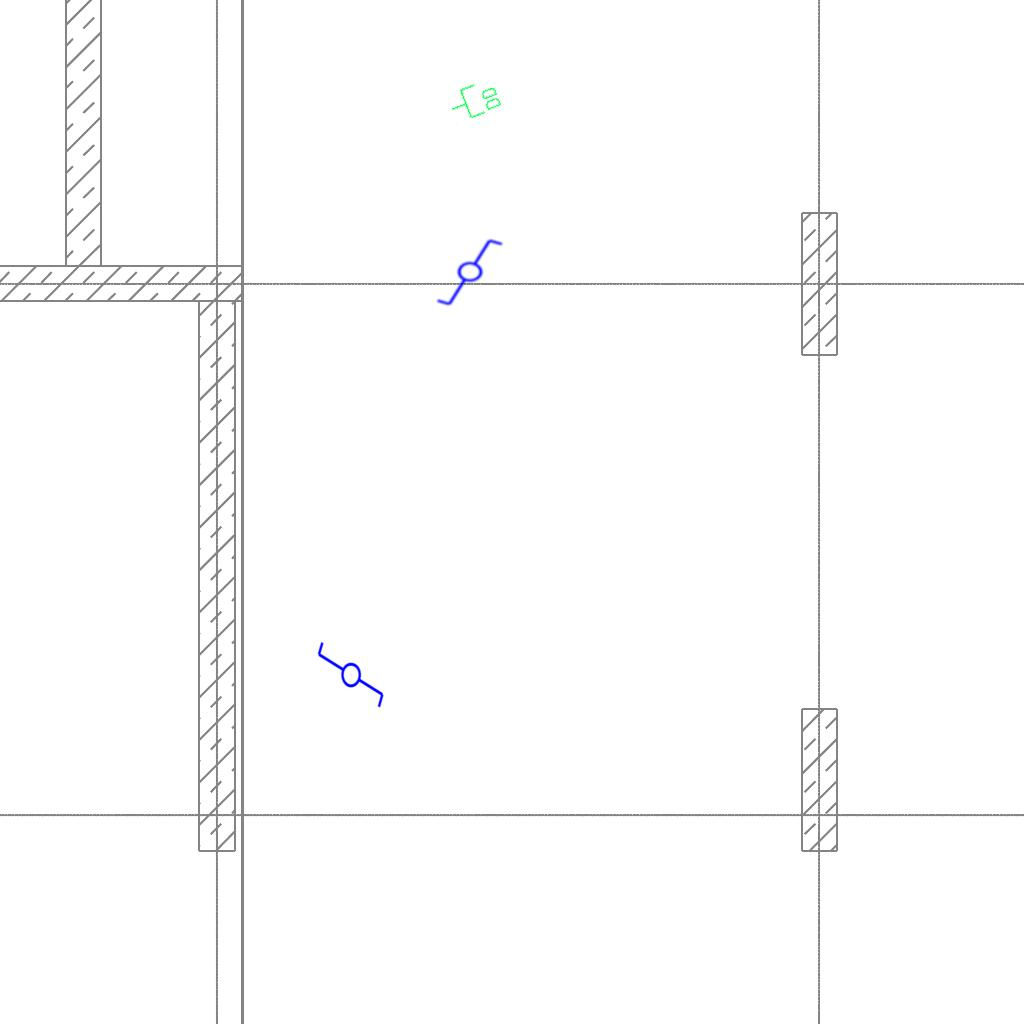Datenanschluss_zweifach: (444, 75, 505, 127)
Wechselschalter: (435, 237, 513, 309), (314, 640, 386, 718)
